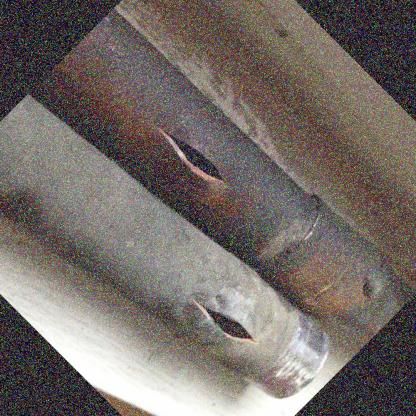burst: (164, 129, 229, 189), (195, 298, 258, 349)
